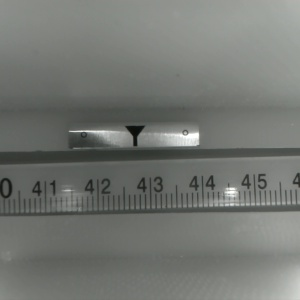0: (0, 177, 12, 199)
1: (49, 180, 56, 195)
2: (100, 178, 110, 194)
3: (152, 177, 162, 193)
4: (205, 176, 216, 191), (31, 181, 42, 196), (136, 177, 146, 193), (241, 174, 251, 189), (84, 179, 94, 194), (189, 176, 199, 191), (291, 172, 300, 188)
5: (256, 173, 266, 189)
finger: (122, 126, 145, 147)
